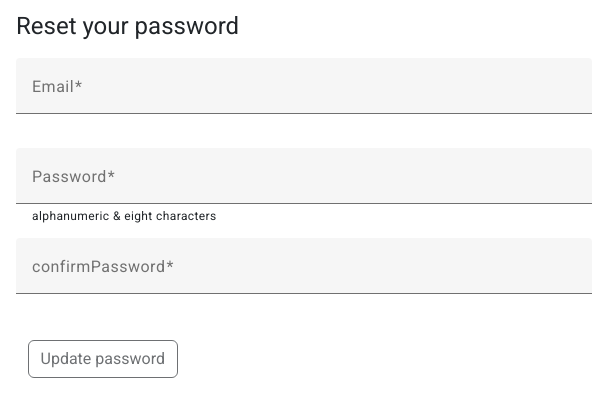
it: ResetPasswordComponent › form completion and submission › password control › should show minlength validation messages when password input less tha minimum length
Type "k1" into the password field with placeholder "password" at (304, 184), box [32,172,576,196]
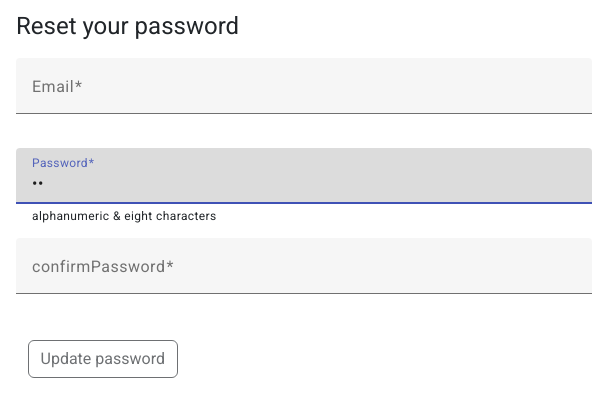
Leave the 1st password field, box [32,172,576,196]
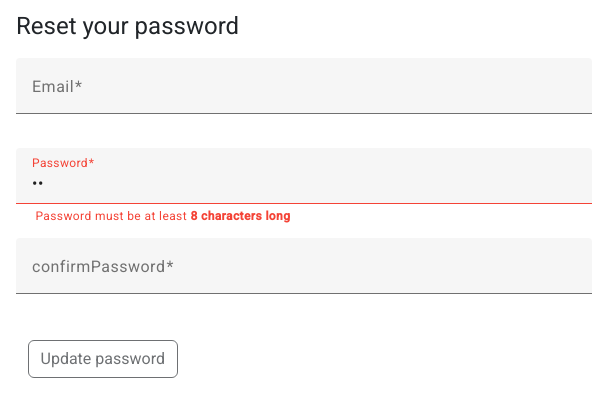
Now the element showing "Password must be at least 8 characters long" is shown, box [32,209,290,223]
